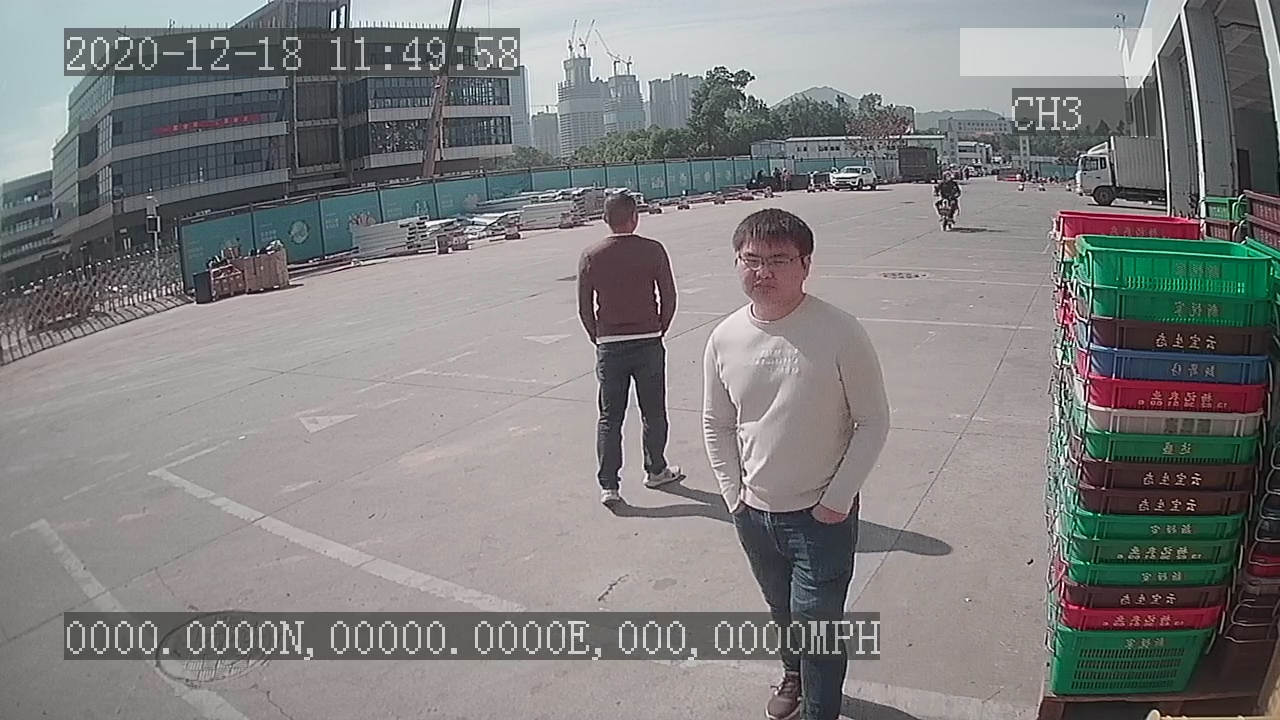person: (572, 186, 690, 506)
